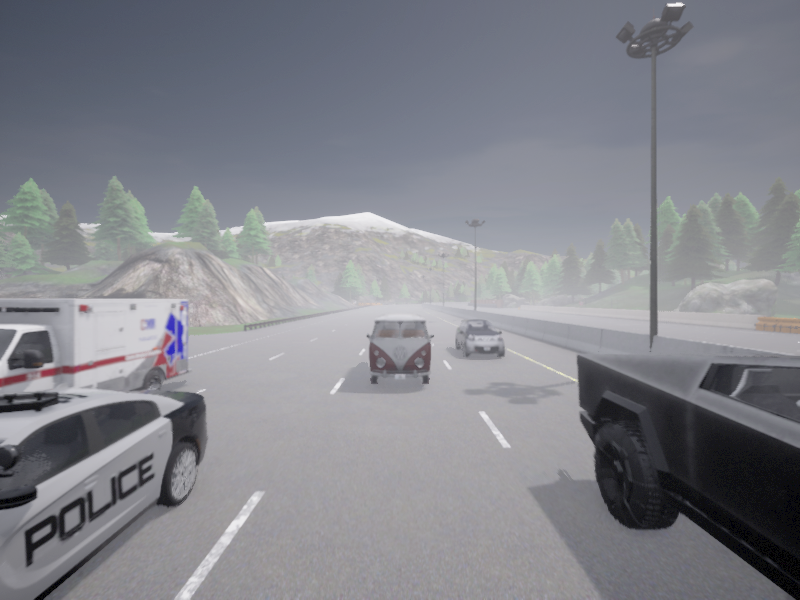vehicle: (576, 353, 799, 599), (0, 383, 207, 599), (0, 299, 191, 391), (366, 313, 433, 383), (455, 319, 504, 356)
